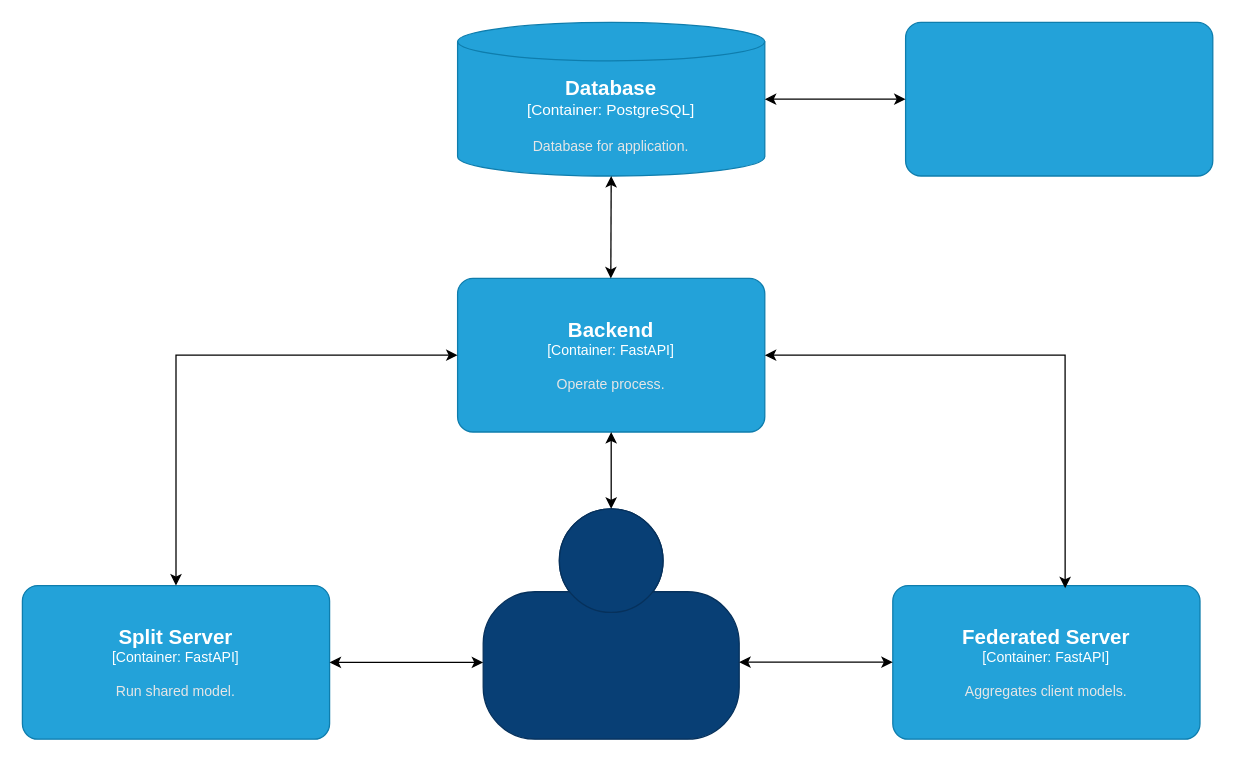
Some shapes in this 1235 by 762 pixel diagram are drawn without their labels. Here are the shapes that lost their labels. From the top down, the box of each, then its label:
(904, 21, 1213, 176): Dashboard [Container: Streamlit] Dashboard monitor real-time training.
(482, 508, 739, 739): Client [FastAPI] Client participate in training.
